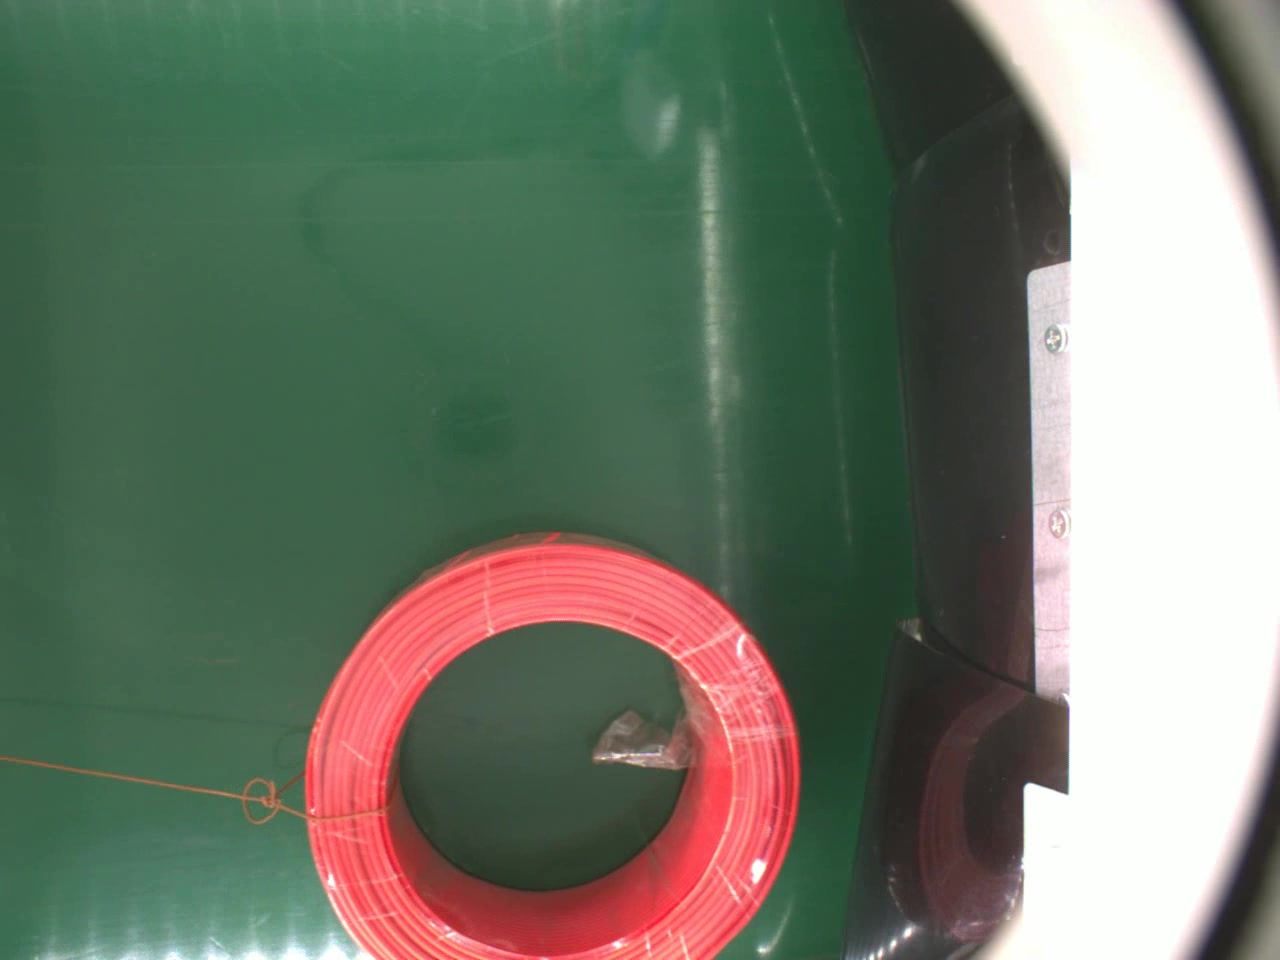red: (300, 527, 807, 960)
